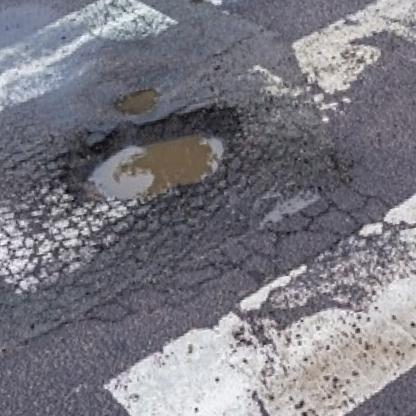pothole: (59, 101, 250, 218), (110, 83, 163, 121)
